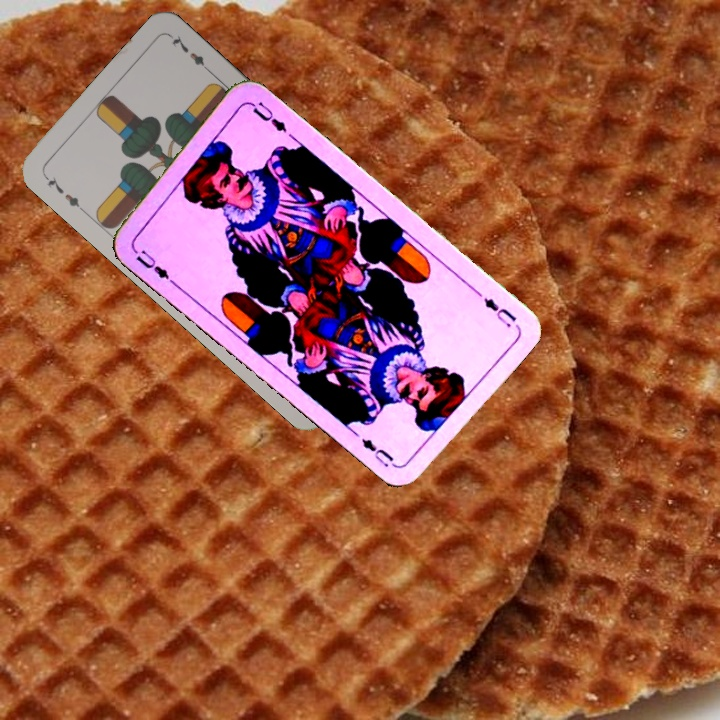E7: (40, 171, 88, 216)
EU: (128, 243, 177, 286), (479, 293, 519, 330)
